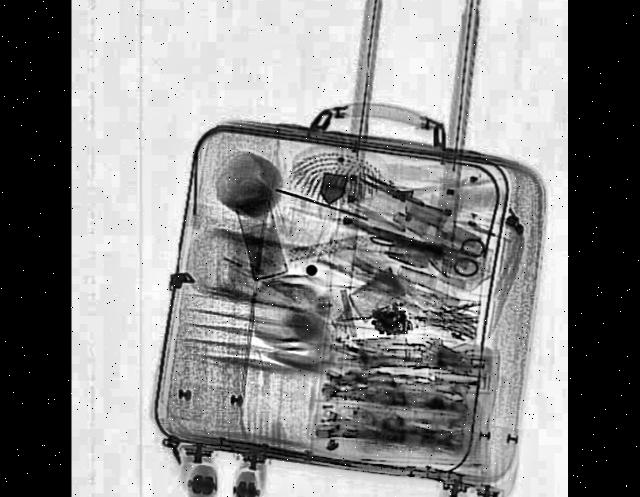Scissors: (378, 209, 483, 280)
